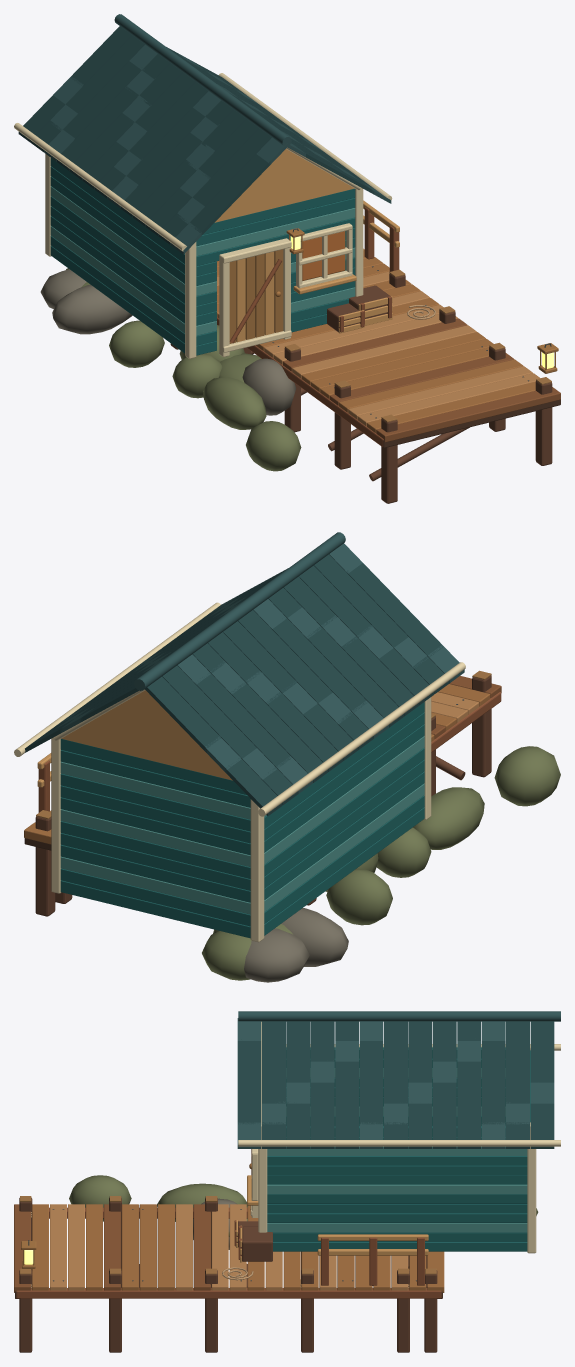
The model's file is SunriseBoathouse.fbx.
3 renders of one model, top to bottom at view 1: azimuth 30°, elevation 25°; view 2: azimuth 150°, elevation 25°; view 3: azimuth 270°, elevation 25°, orthographic. The views are drawn at different scales.
Visible parts, largest first — view 1: Gable infill, Weathered deck plank 01, Shore boulder.007, Shore boulder.008, Roof ridge, Shore boulder.005, Shore boulder.009, Shore boulder, Weathered deck plank 10, Weathered deck plank 04, Weathered deck plank 05, Weathered deck plank 09 (+49 smaller); view 2: Gable infill.001, Roof ridge, Shore boulder.005, Shore boulder.008, Shore boulder, Shore boulder.006, End siding.005, End siding, End siding.002, End siding.003, End siding.008, End siding.007 (+80 smaller); view 3: Dock edge fascia.001, Roof ridge, Painted side siding.013, Painted side siding.017, Painted side siding.007, Painted side siding.011, Painted side siding.015, Painted side siding.019, Painted side siding.009, Painted side siding.005, Painted eave beam.001, Painted side siding.001 (+116 smaller).
Part boxes in pixels (x1,y1,x2,y2): Gable infill: (215,149,354,222); Weathered deck plank 01: (376,387,560,442); Shore boulder.007: (52,284,132,334); Shore boulder.008: (203,377,266,429); Roof ridge: (114,14,291,145); Shore boulder.005: (246,421,301,471); Shore boulder.009: (242,358,296,415); Shore boulder: (109,320,164,367); Weathered deck plank 10: (292,325,476,378); Weathered deck plank 04: (348,366,532,419); Weathered deck plank 05: (339,359,523,412); Weathered deck plank 09: (301,332,485,384); Gable infill.001: (61,690,232,780); Roof ridge: (134,532,345,690); Shore boulder.005: (494,746,560,806); Shore boulder.008: (413,787,484,849); Shore boulder: (326,868,392,925); Shore boulder.006: (244,928,309,982); End siding.005: (60,821,250,878); End siding: (60,880,250,938); End siding.002: (60,856,250,914); End siding.003: (60,844,250,902); End siding.008: (60,785,250,843); End siding.007: (60,797,250,855); Dock edge fascia.001: (16,1288,441,1298); Roof ridge: (238,1011,560,1021); Painted side siding.013: (267,1184,527,1194); Painted side siding.017: (267,1165,527,1175); Painted side siding.007: (267,1213,527,1222); Painted side siding.011: (267,1194,527,1203); Painted side siding.015: (267,1175,527,1184); Painted side siding.019: (267,1156,527,1165); Painted side siding.009: (267,1204,527,1213); Painted side siding.005: (267,1223,527,1232); Painted eave beam.001: (238,1140,560,1146); Painted side siding.001: (273,1242,527,1251).
Size of the model in its own units: 5 by 4.81 by 8.83.
